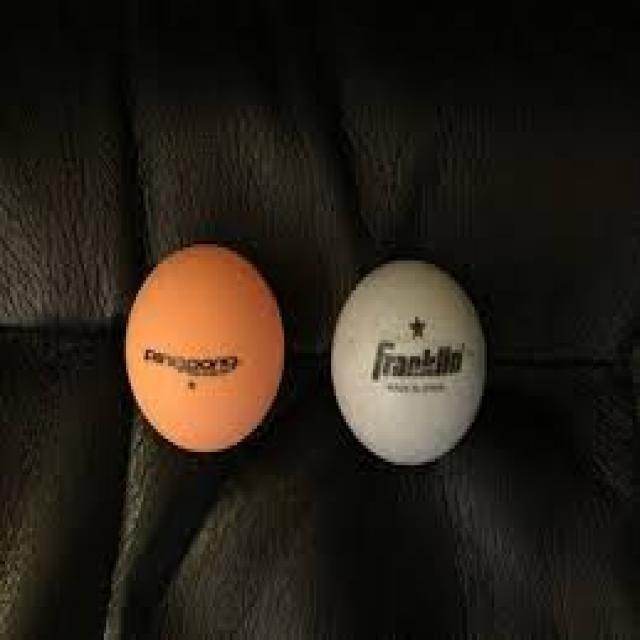orange: (115, 234, 299, 459)
white: (320, 247, 495, 471)
